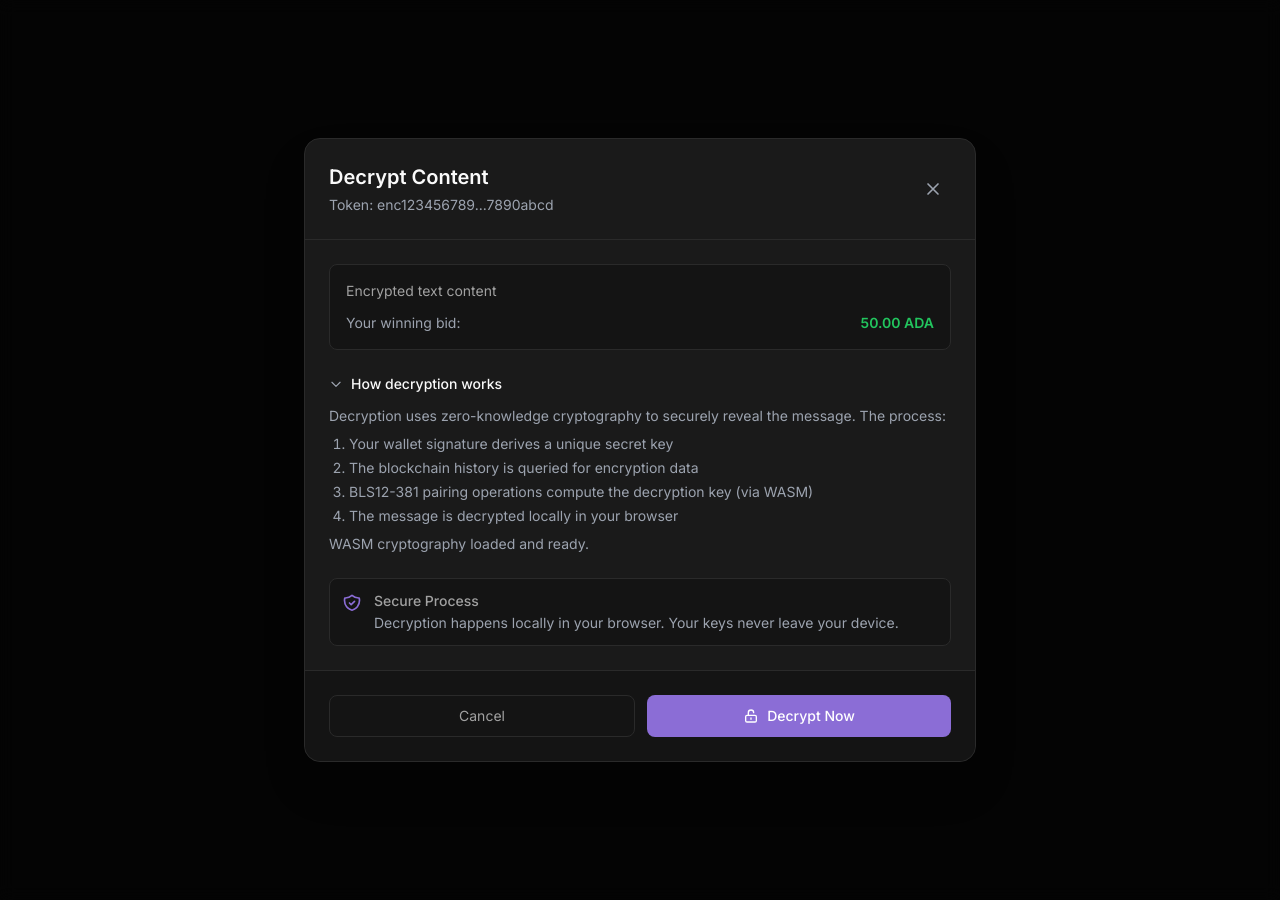
Scenario: DecryptModal › shows decrypted text message on success
Click the button "Decrypt Now".
click(799, 716)  # box [647,695,951,737]
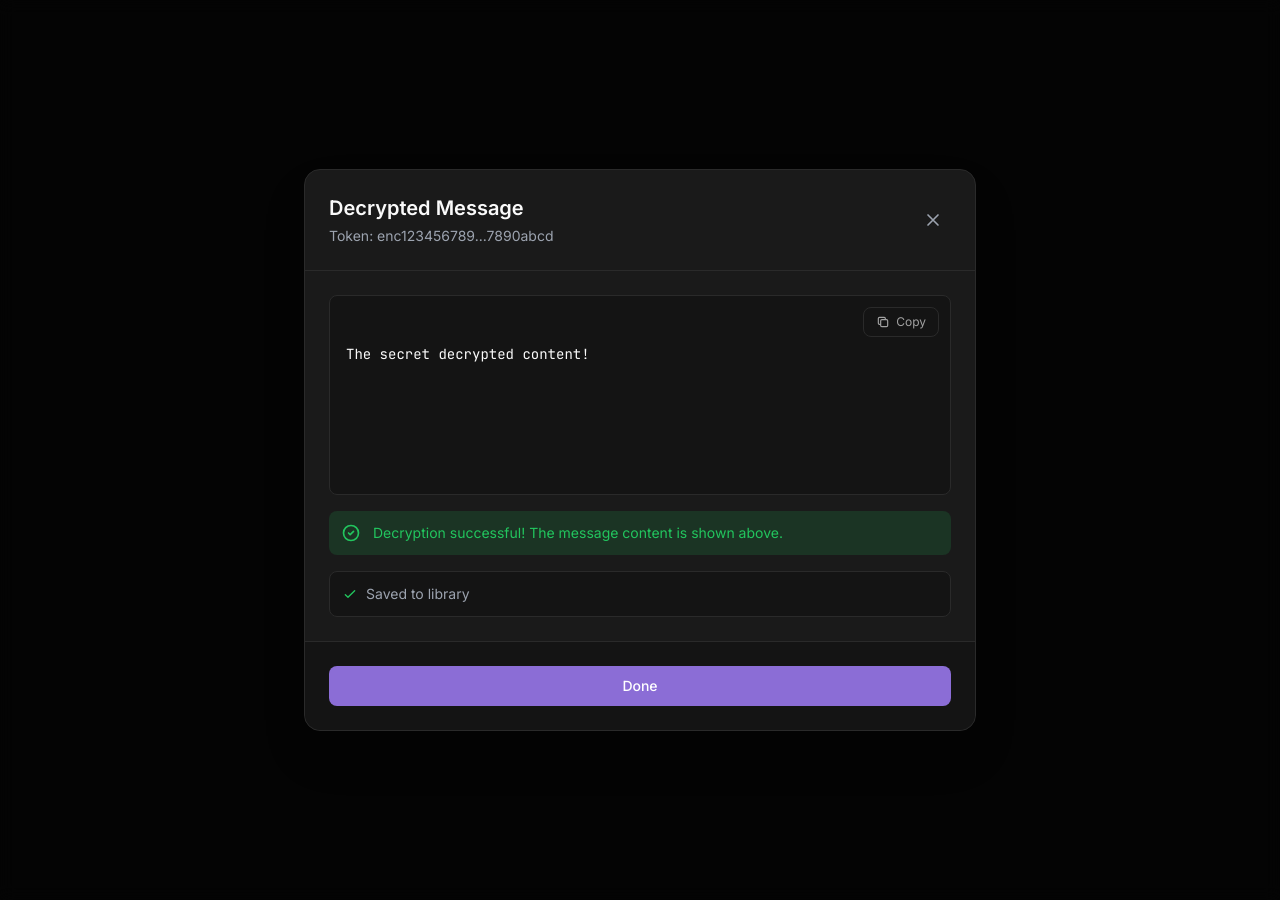
Now the text "The secret decrypted content!" is shown, box [329,295,951,495]
Now the text "Decryption successful! The message content is shown above." is shown, box [373,523,783,543]
Now the button "Done" is shown, box [329,666,951,706]
